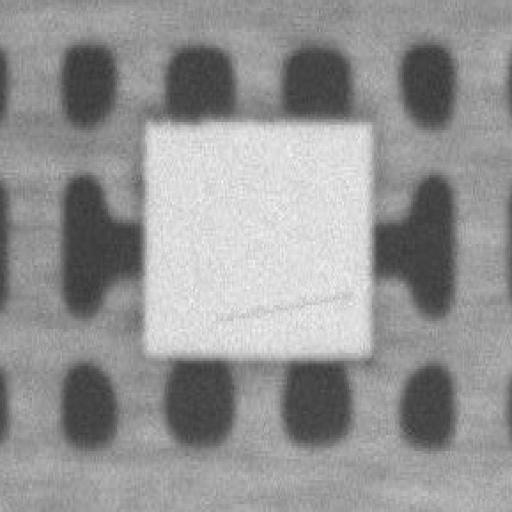DIE_CRACK: (315, 195, 512, 214)
